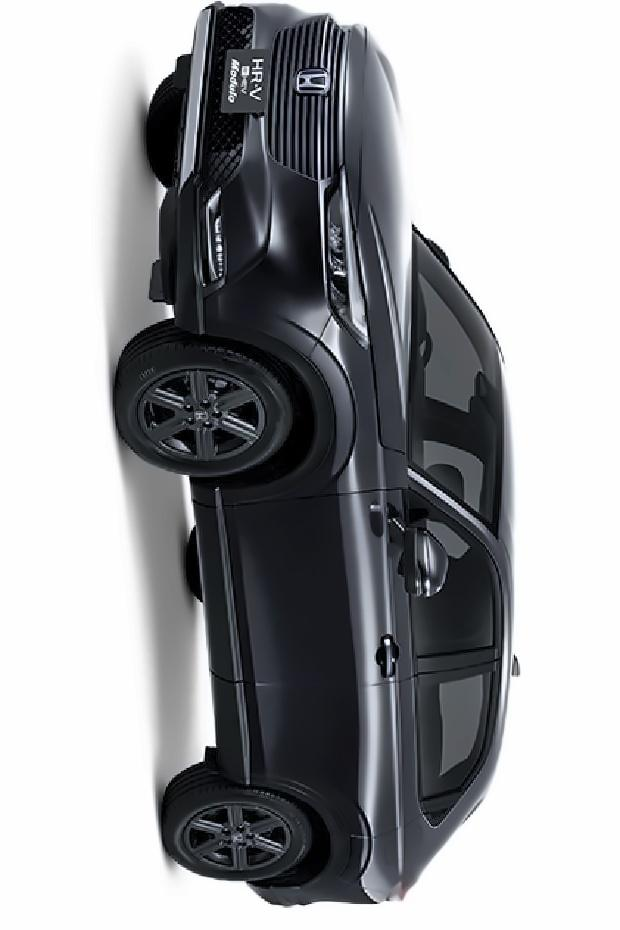Car hood: (352, 22, 425, 455)
Fender - -F-L-: (186, 315, 420, 516)
Fender - -R-L-: (200, 758, 436, 899)
Front bumper: (160, 0, 329, 359)
Headlight - -L-: (310, 169, 391, 350)
Passenger-s door - -F-L-: (215, 486, 518, 686)
Passenger-s door - -R-L-: (233, 661, 522, 840)
Rear bumper: (244, 866, 371, 930)
Side bumper - -L-: (178, 473, 264, 801)
Side mirror - -L-: (388, 506, 453, 610)
